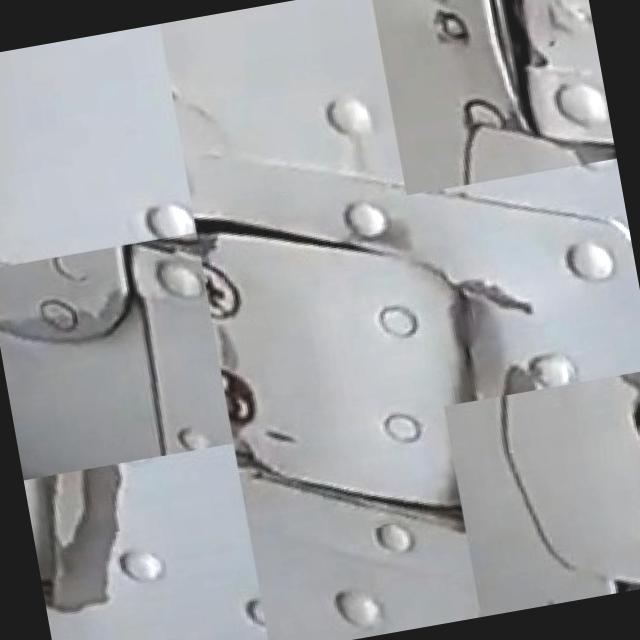crack: (207, 320, 246, 378)
